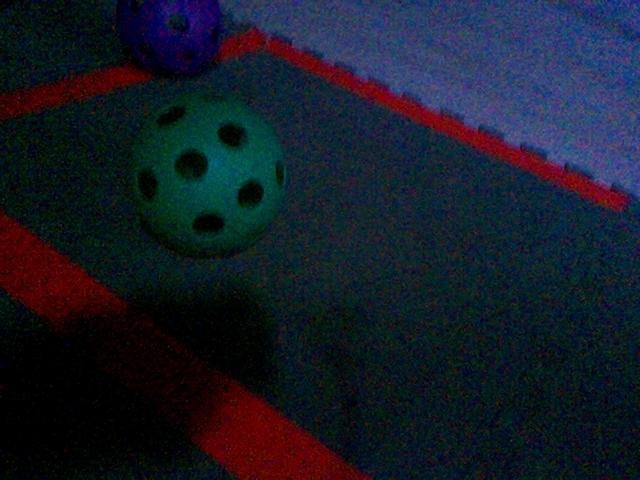Green: (126, 92, 289, 255)
Purple: (114, 0, 222, 76)
